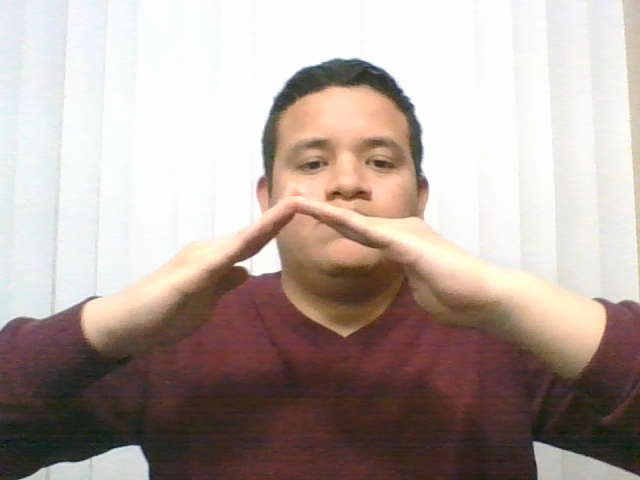House: (73, 166, 571, 394)
